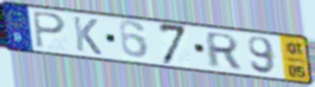6: (118, 19, 150, 63)
7: (158, 21, 190, 67)
9: (246, 36, 278, 76)
K: (71, 14, 104, 57)
P: (31, 9, 68, 50)
R: (205, 30, 242, 70)
